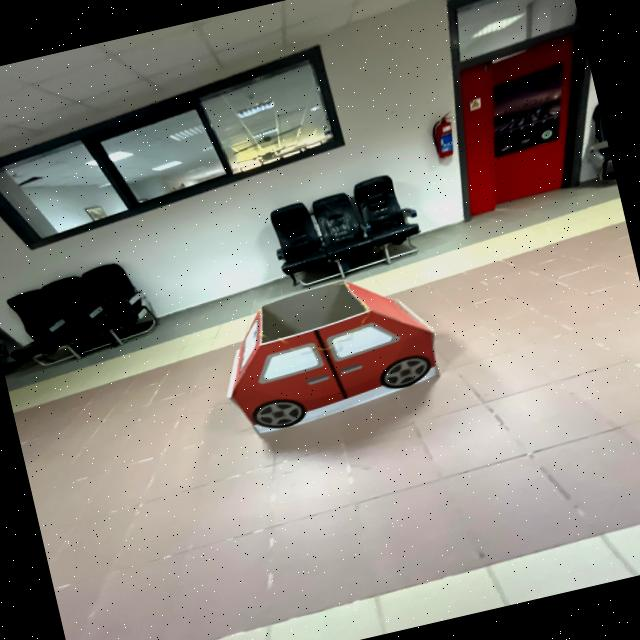red_car: (190, 254, 469, 463)
